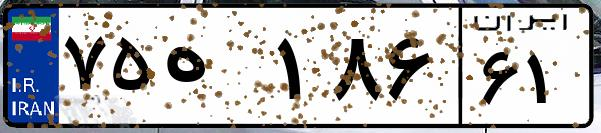1: (270, 28, 330, 110), (525, 38, 570, 115)
5: (110, 28, 158, 98)
6: (385, 28, 445, 110), (475, 38, 525, 113)
7: (57, 26, 110, 100)
8: (330, 28, 385, 110)
ه: (158, 20, 270, 120)
